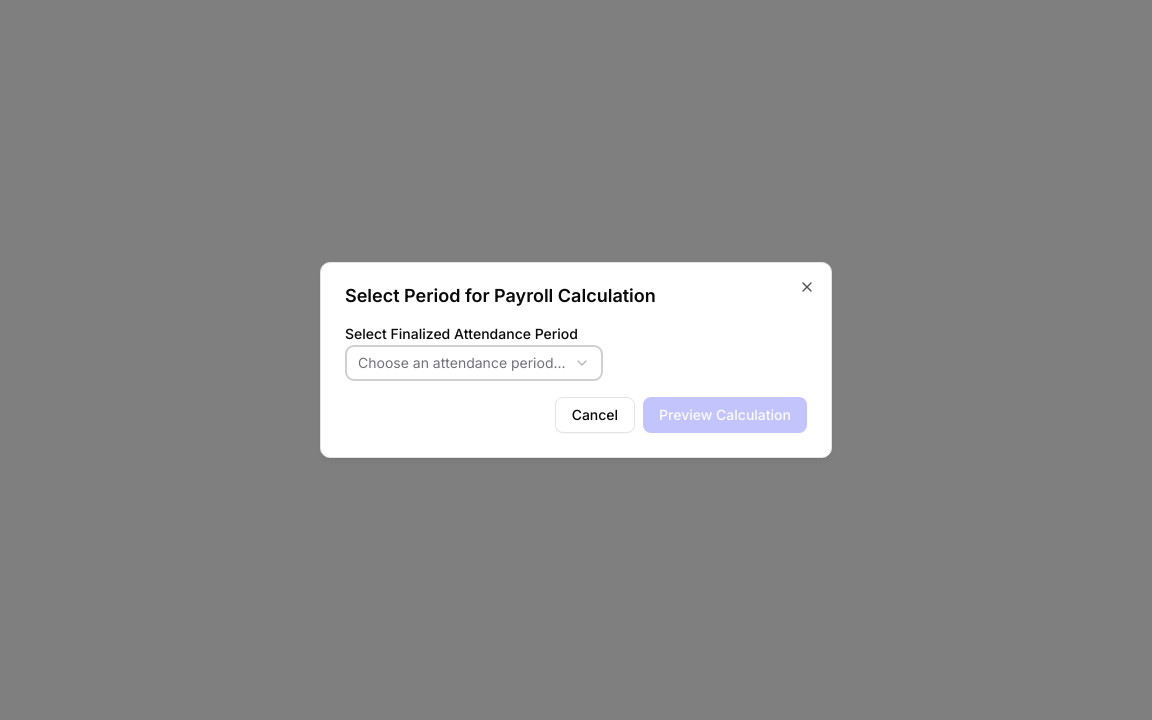
Test: PayrollCalculationModal › Period Selection Step › should show error when period is not eligible
Click the dropdown at (474, 363), box [345,345,603,381]
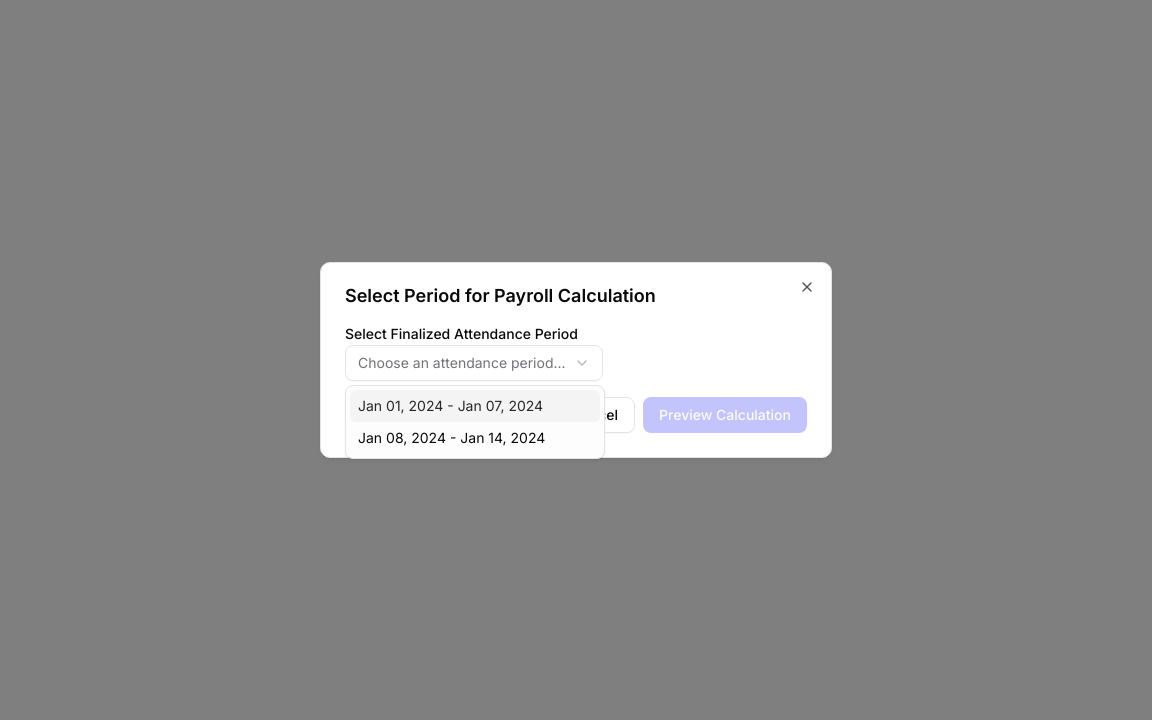
Click the option "Jan 01, 2024 - Jan 07, 2024" at (475, 406), box [350,390,600,422]
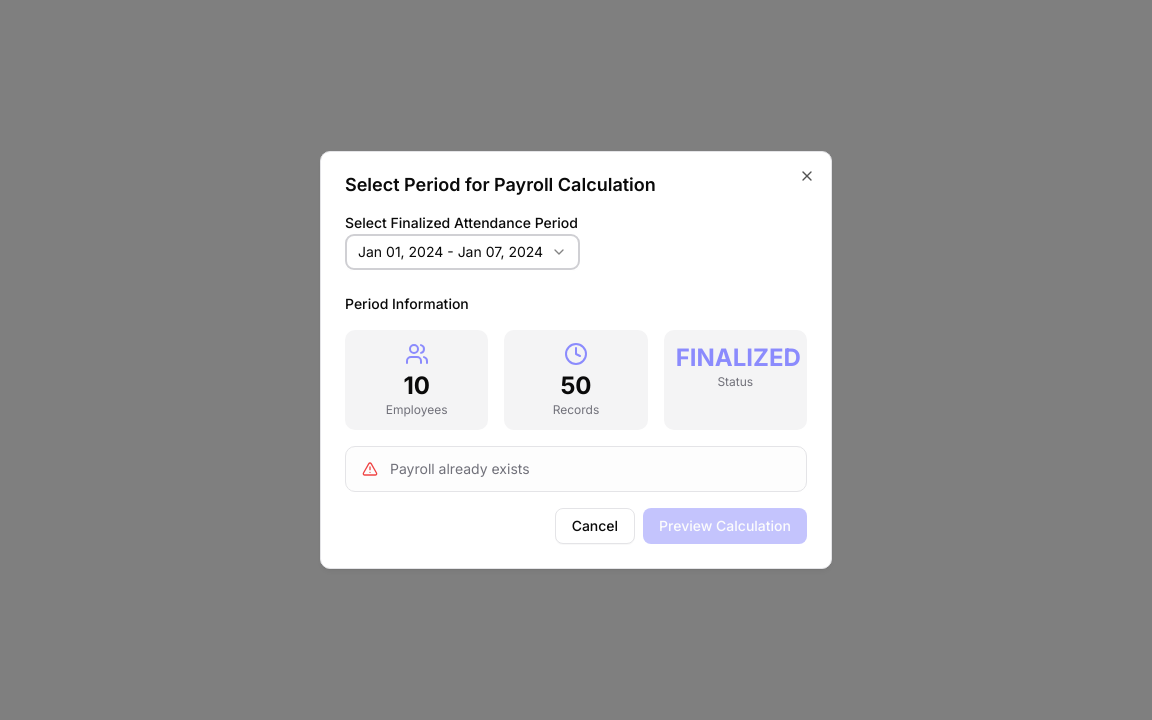
Check: the button "Preview Calculation" is disabled, box [643,508,807,544]
Check: the text "Payroll already exists" is shown, box [390,460,530,477]
